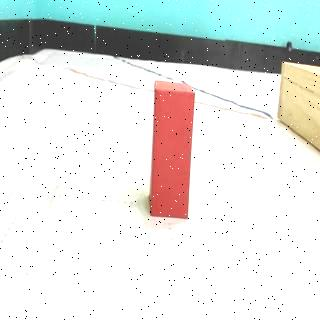redbox: (150, 79, 196, 218)
